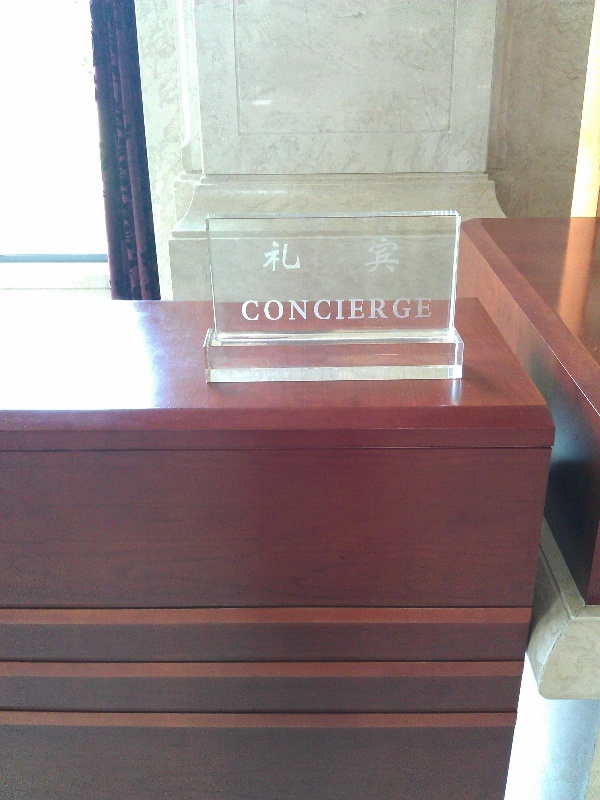text: (273, 234, 288, 276), (289, 234, 304, 276), (305, 234, 320, 276), (321, 234, 336, 276), (337, 234, 352, 276), (353, 234, 368, 276), (369, 234, 384, 276), (385, 234, 400, 276), (261, 234, 272, 276), (417, 297, 433, 322), (241, 297, 256, 322), (257, 297, 272, 322), (273, 297, 288, 322), (289, 297, 304, 322), (305, 297, 320, 322), (321, 297, 336, 322), (337, 297, 352, 322), (353, 297, 368, 322), (369, 297, 384, 322), (385, 297, 400, 322), (401, 297, 416, 322), (401, 234, 402, 276)
